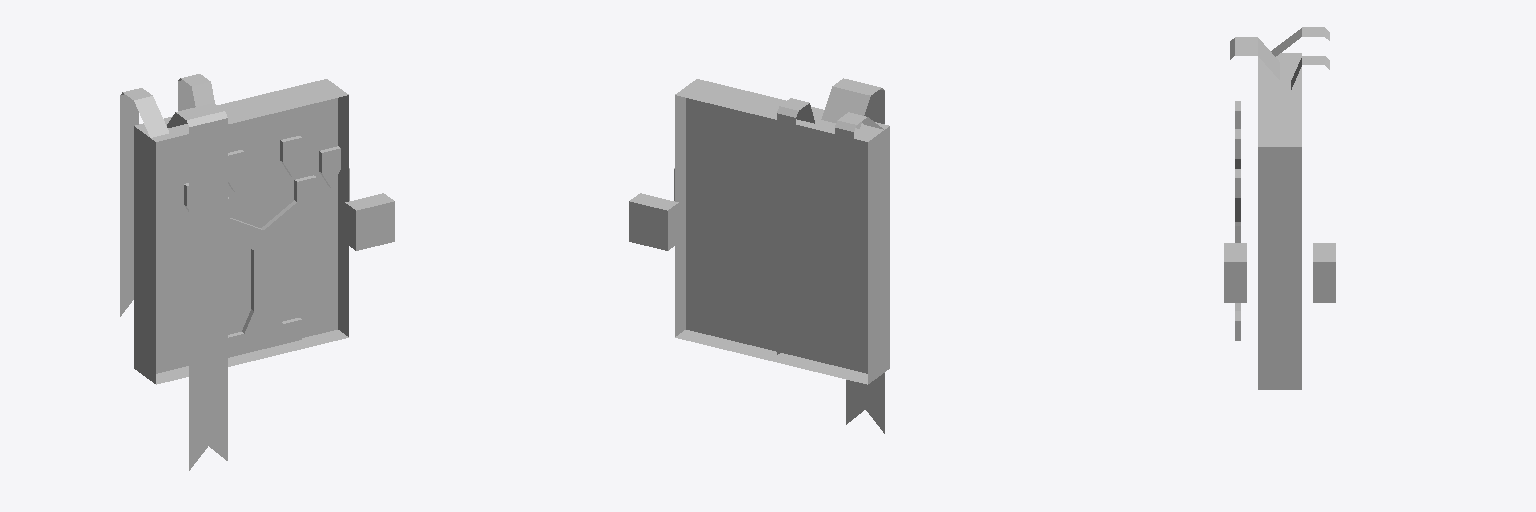
File: book_weaving_closed.obj
3 renders of one model, left to right at view 1: azimuth 30°, elevation 25°; view 2: azimuth 150°, elevation 25°; view 3: azimuth 270°, elevation 25°, orthographic.
Visible parts, largest first — view 1: PAGES_RIGHT_CLOSED_Cube.002, RIBBONS_FRONT_CLOSED_Plane.002, PAGES_LEFT_CLOSED_Cube.008, COVER_RIGHT_CLOSED_NOTINT_Cube.010, RIBBONS_BACK_CLOSED_Plane; view 2: PAGES_RIGHT_CLOSED_Cube.002, PAGES_LEFT_CLOSED_Cube.008, RIBBONS_BACK_CLOSED_Plane, RIBBONS_FRONT_CLOSED_Plane.002, COVER_LEFT_CLOSED_NOTINT_Cube.011; view 3: PAGES_LEFT_CLOSED_Cube.008, PAGES_RIGHT_CLOSED_Cube.002, COVER_RIGHT_CLOSED_NOTINT_Cube.010, COVER_LEFT_CLOSED_NOTINT_Cube.011, RIBBONS_FRONT_CLOSED_Plane.002, RIBBONS_BACK_CLOSED_Plane.
Boxes of the visible parts, box(x1,y1,x2,y2) form: PAGES_RIGHT_CLOSED_Cube.002: box(145, 87, 348, 384); RIBBONS_FRONT_CLOSED_Plane.002: box(167, 103, 227, 470); PAGES_LEFT_CLOSED_Cube.008: box(134, 79, 337, 375); COVER_RIGHT_CLOSED_NOTINT_Cube.010: box(184, 136, 394, 357); RIBBONS_BACK_CLOSED_Plane: box(120, 74, 214, 316); PAGES_RIGHT_CLOSED_Cube.002: box(686, 79, 889, 375); PAGES_LEFT_CLOSED_Cube.008: box(675, 87, 878, 384); RIBBONS_BACK_CLOSED_Plane: box(777, 98, 883, 354); RIBBONS_FRONT_CLOSED_Plane.002: box(821, 78, 884, 433); COVER_LEFT_CLOSED_NOTINT_Cube.011: box(629, 193, 678, 250); PAGES_LEFT_CLOSED_Cube.008: box(1280, 53, 1301, 389); PAGES_RIGHT_CLOSED_Cube.002: box(1258, 54, 1279, 389); COVER_RIGHT_CLOSED_NOTINT_Cube.010: box(1224, 101, 1246, 340); COVER_LEFT_CLOSED_NOTINT_Cube.011: box(1313, 243, 1335, 302); RIBBONS_FRONT_CLOSED_Plane.002: box(1230, 37, 1279, 79); RIBBONS_BACK_CLOSED_Plane: box(1271, 27, 1329, 89).
Size of the model in its own units: 0.7188 by 1.08 by 0.3125.